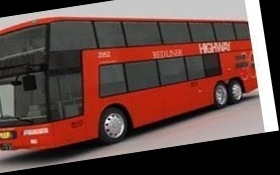bus: (0, 0, 263, 163)
